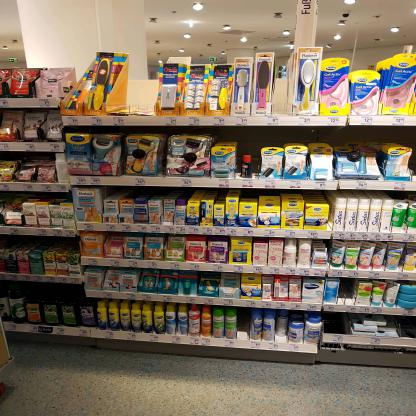Void: (237, 129, 410, 146), (130, 52, 154, 116), (25, 282, 86, 303), (0, 236, 80, 250), (324, 310, 349, 335), (343, 278, 355, 305)
